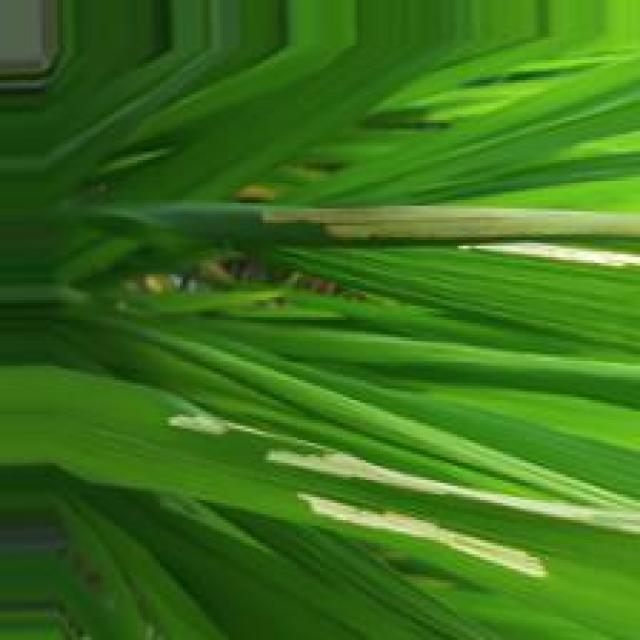Rice_Hispa: (278, 453, 640, 540), (300, 493, 542, 578), (254, 205, 640, 237)
